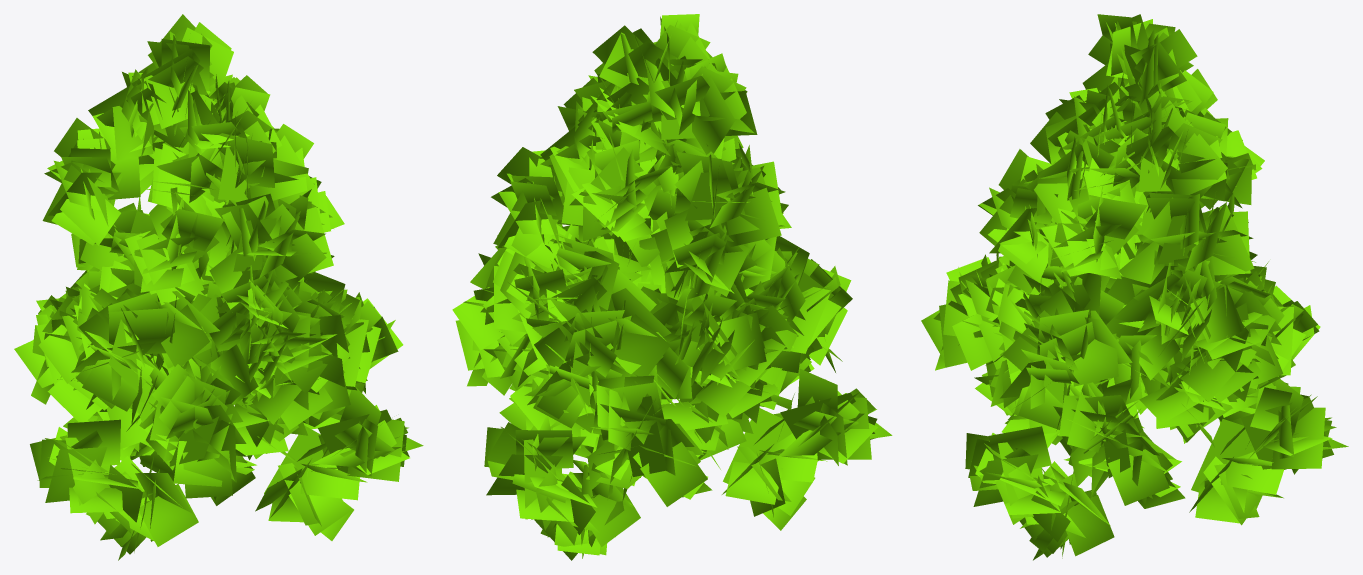
File: leaves.fbx
3 views of the same model, side by side, from view 1: azimuth 30°, elevation 25°; view 2: azimuth 150°, elevation 25°; view 3: azimuth 270°, elevation 25° (orthographic). The views are drawn at different scales.
Visible parts, largest first — view 1: Leaves.015; view 2: Leaves.015; view 3: Leaves.015.
Part boxes in pixels (x1=…): Leaves.015: x1=14, y1=14, x2=423, y2=560; Leaves.015: x1=452, y1=14, x2=892, y2=560; Leaves.015: x1=921, y1=14, x2=1348, y2=560.
Size of the model in its own units: 214 by 274 by 213.
